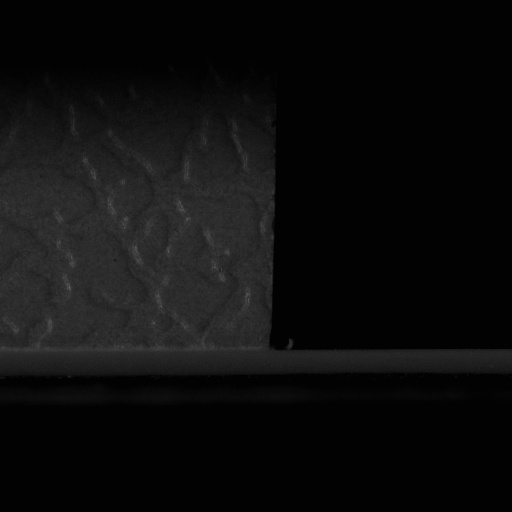changdai: (265, 346, 508, 374)
